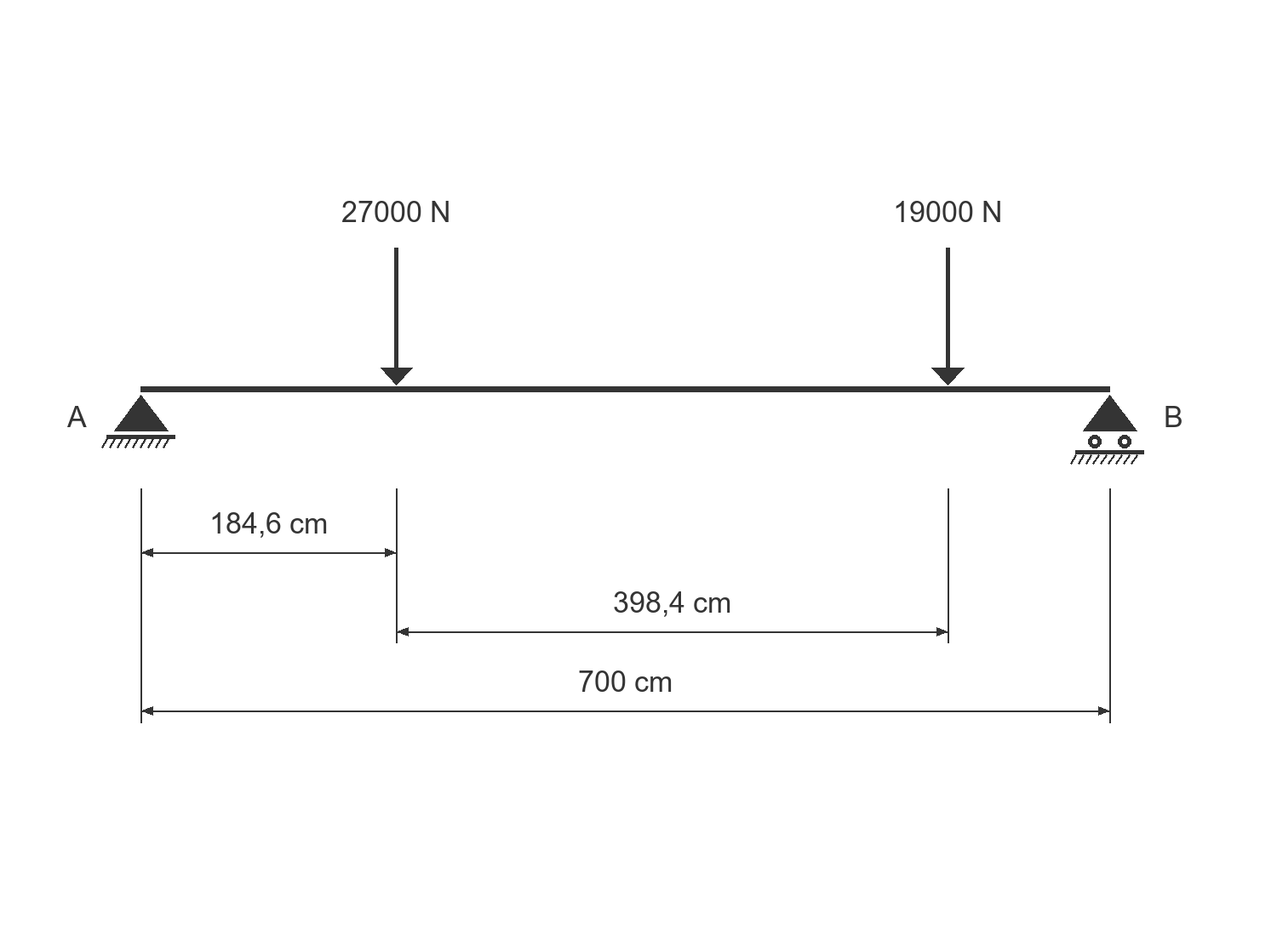pin_support: (101, 395, 175, 448)
point_load: (931, 248, 965, 385), (381, 248, 413, 385)
roller_support: (1070, 395, 1144, 465)
